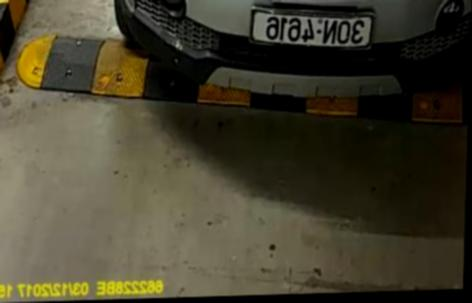License_Plate: (240, 6, 380, 53)
